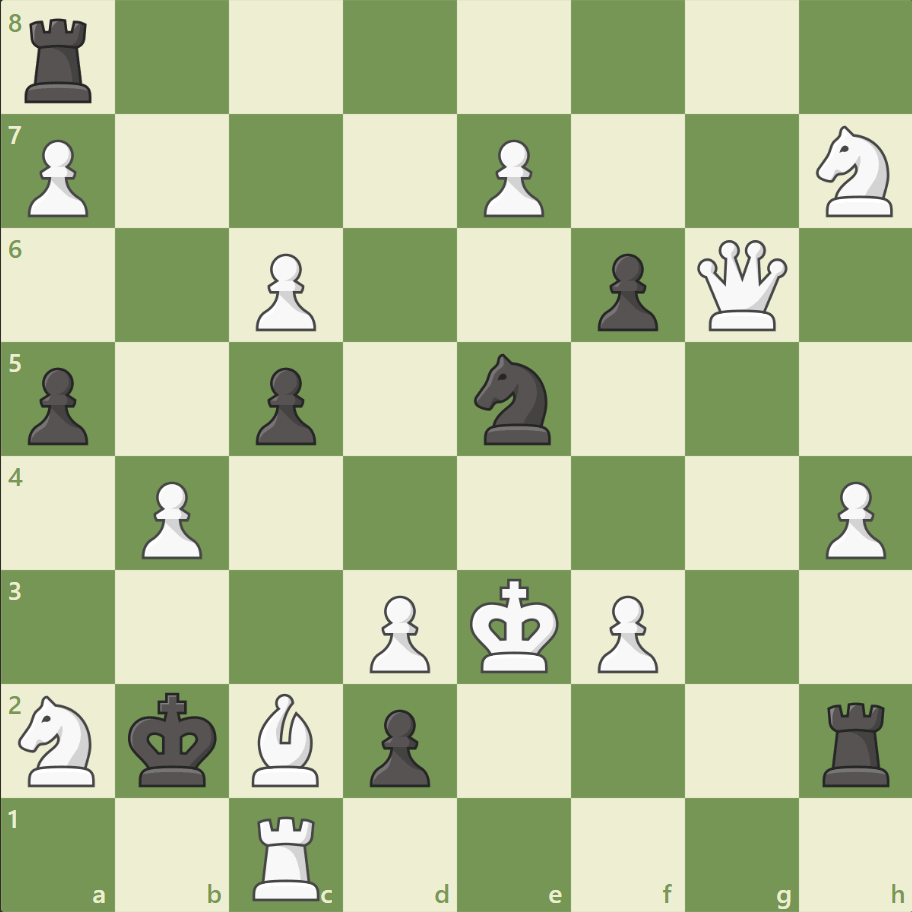B: (244, 687, 328, 790)
K: (465, 571, 565, 679)
N: (11, 688, 108, 791), (806, 121, 903, 223)
P: (20, 132, 95, 223), (474, 132, 549, 223), (247, 246, 322, 337), (133, 473, 208, 564), (815, 473, 889, 564), (361, 586, 435, 677), (588, 586, 662, 677)
Q: (691, 236, 790, 335)
R: (246, 806, 329, 904)
k: (124, 685, 224, 793)
n: (465, 348, 562, 450)
p: (20, 359, 95, 450), (247, 359, 322, 450), (588, 246, 662, 337), (361, 700, 435, 791)
r: (19, 12, 102, 109), (814, 693, 897, 790)
